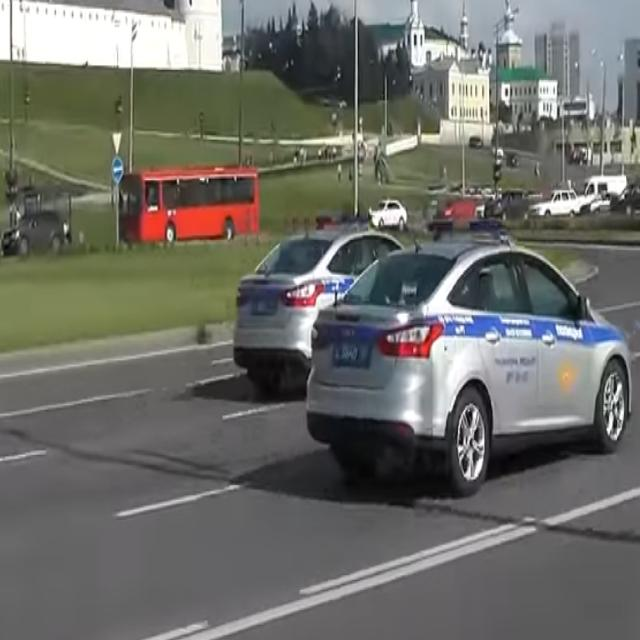non emergency car: (118, 164, 260, 252), (3, 207, 71, 260), (527, 186, 582, 230), (581, 177, 630, 216), (433, 198, 475, 232), (368, 195, 408, 230)
police car: (306, 217, 633, 488), (236, 217, 402, 396)
